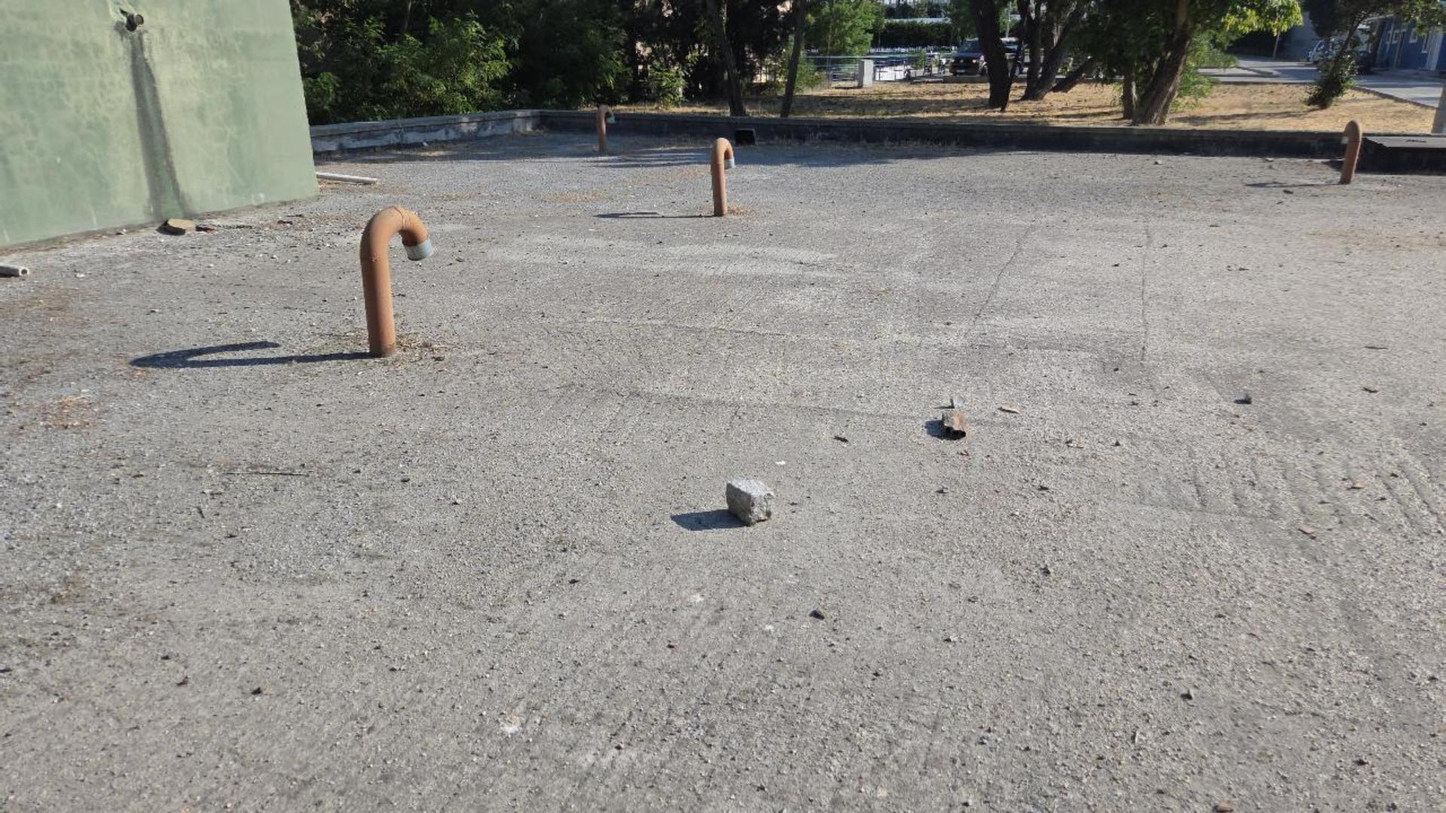rock: (725, 479, 774, 525), (943, 411, 966, 436)
